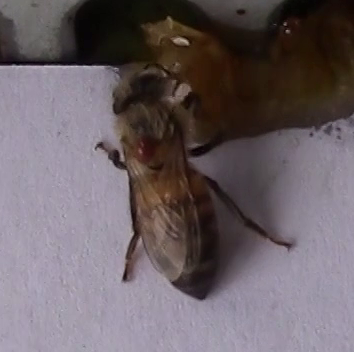Varroa destructor: (133, 134, 154, 163)
